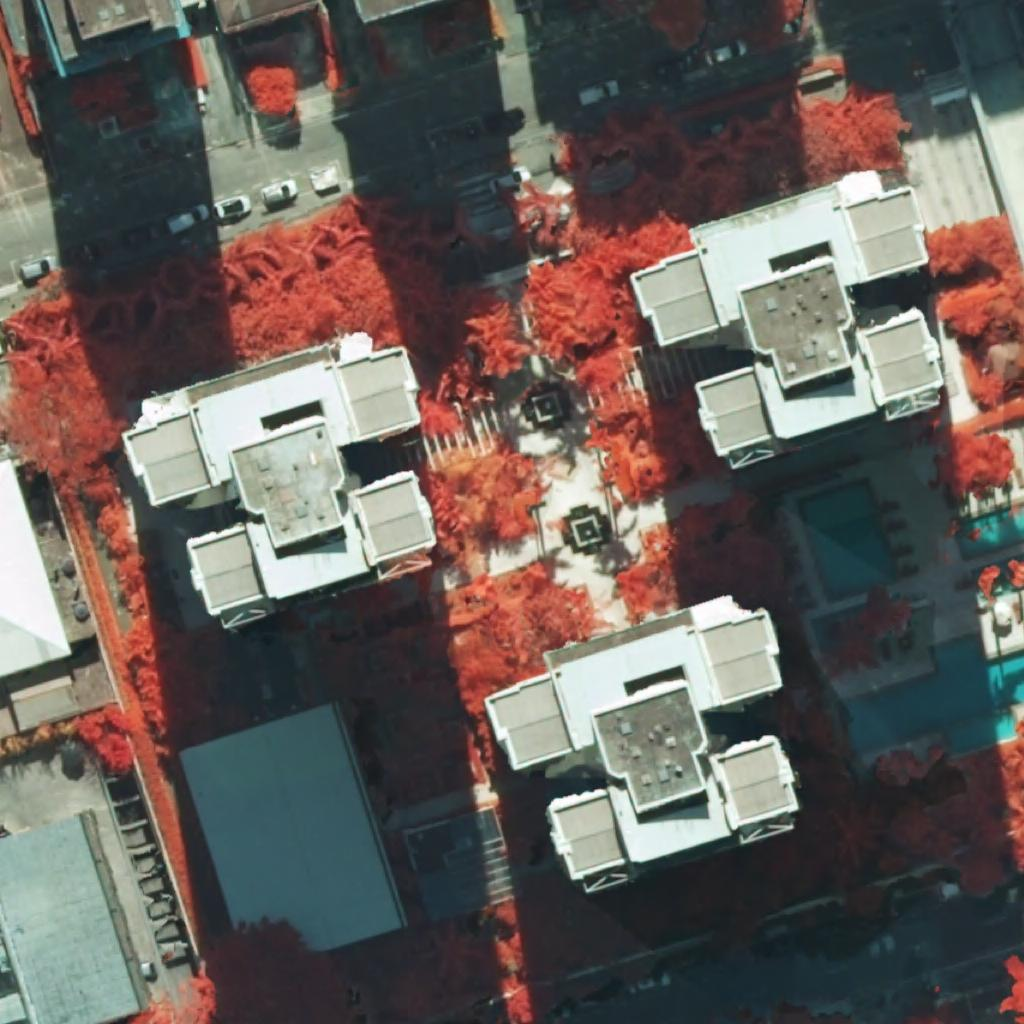pool: (838, 634, 1024, 755), (797, 479, 899, 603), (956, 503, 1024, 559)
